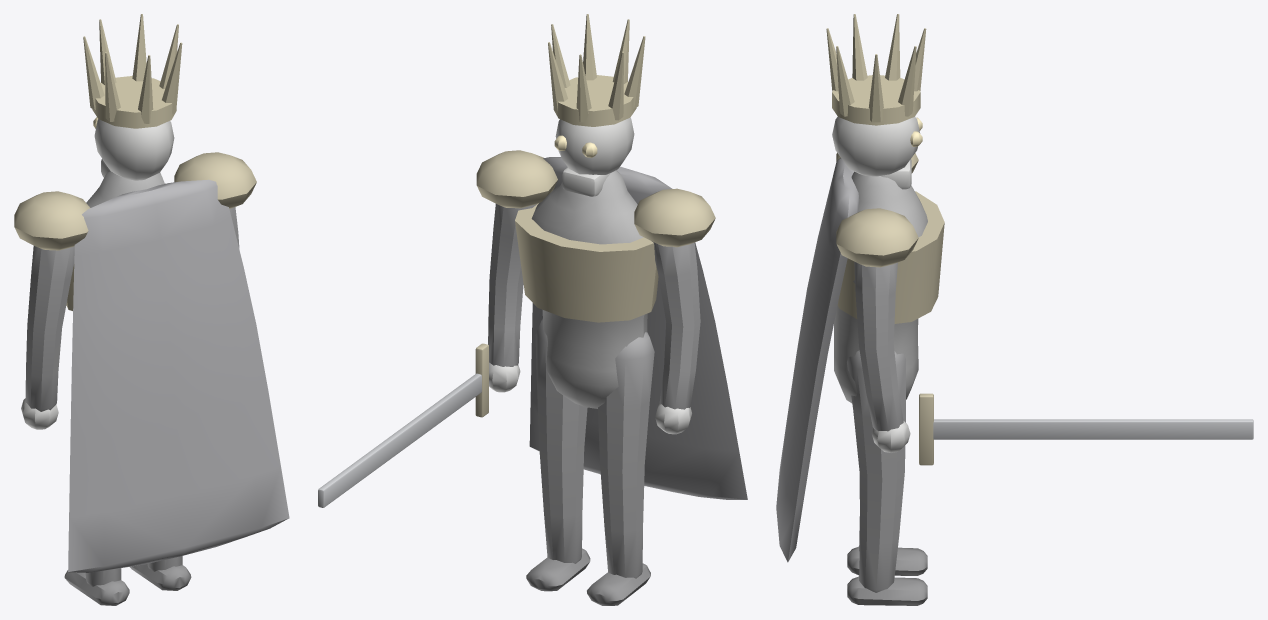
Rendered from pallid_king.gltf.
3 renders of one model, left to right at view 1: azimuth 30°, elevation 25°; view 2: azimuth 150°, elevation 25°; view 3: azimuth 270°, elevation 25°, orthographic.
Parts seen in each view (by area): view 1: Body, ArmL, ArmR, SwingA, SwingB; view 2: Body, ArmR, SwingA, ArmL, SwingB; view 3: Body, ArmR, SwingB, SwingA.
Boxes of the visible parts, x1,y1,x2,y2 form: Body: (66, 14, 289, 572); ArmL: (14, 191, 90, 429); ArmR: (174, 152, 256, 247); SwingA: (64, 568, 129, 605); SwingB: (130, 556, 191, 590); Body: (515, 14, 747, 499); ArmR: (318, 150, 557, 507); SwingA: (587, 332, 654, 605); ArmL: (634, 188, 715, 434); SwingB: (526, 318, 590, 591); Body: (776, 14, 944, 562); ArmR: (836, 208, 1253, 465); SwingB: (847, 350, 927, 605); SwingA: (847, 516, 927, 575).
Size of the model in its own units: 0.9076 by 2.08 by 1.62.
